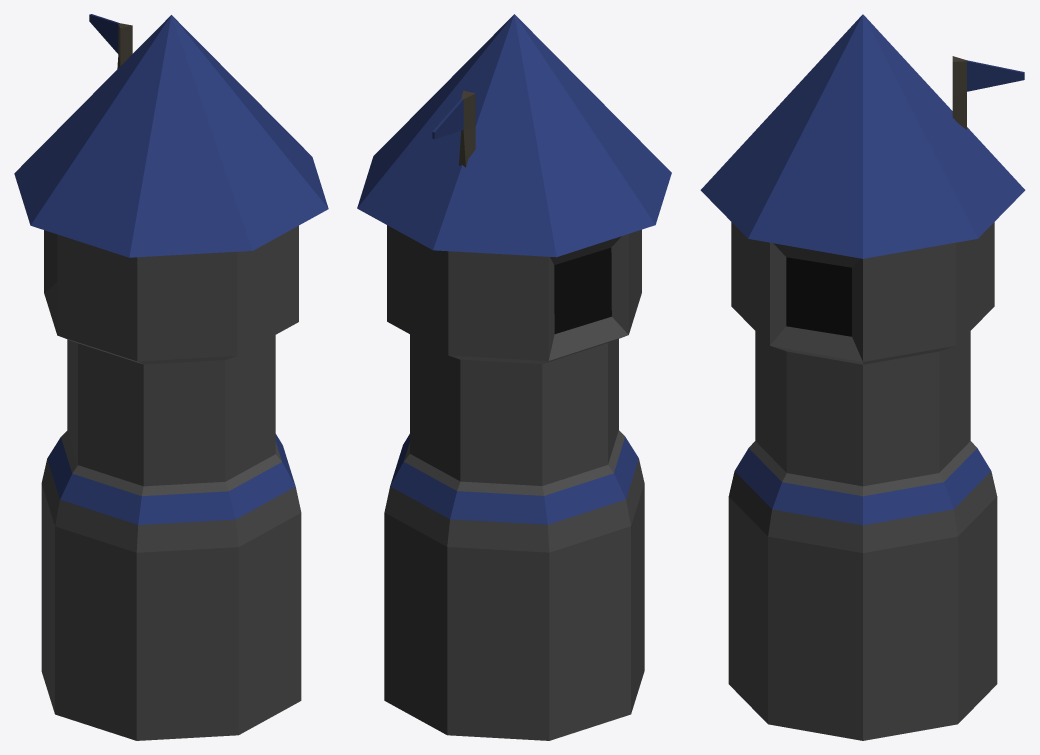
The model's file is TowerRemaster.fbx.
The picture shows the model from 3 angles, left to right: view 1: azimuth 30°, elevation 25°; view 2: azimuth 150°, elevation 25°; view 3: azimuth 270°, elevation 25°; orthographic projection.
Visible parts, largest first — view 1: Cylinder; view 2: Cylinder; view 3: Cylinder.
Part boxes in pixels (x1=…): Cylinder: x1=14, y1=14, x2=328, y2=740; Cylinder: x1=357, y1=14, x2=671, y2=740; Cylinder: x1=700, y1=14, x2=1025, y2=740.
Bounding box in the file's own units: 55.16 × 125 × 55.16.
